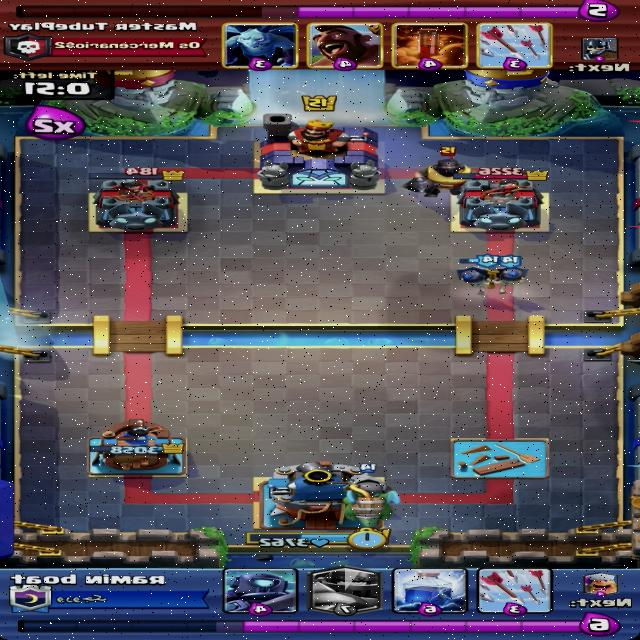Enemy-MegaKnight: (399, 146, 495, 198)
Player-Guard: (455, 253, 501, 296), (485, 254, 530, 296)
Player-InfernoDragon: (342, 464, 402, 528)
